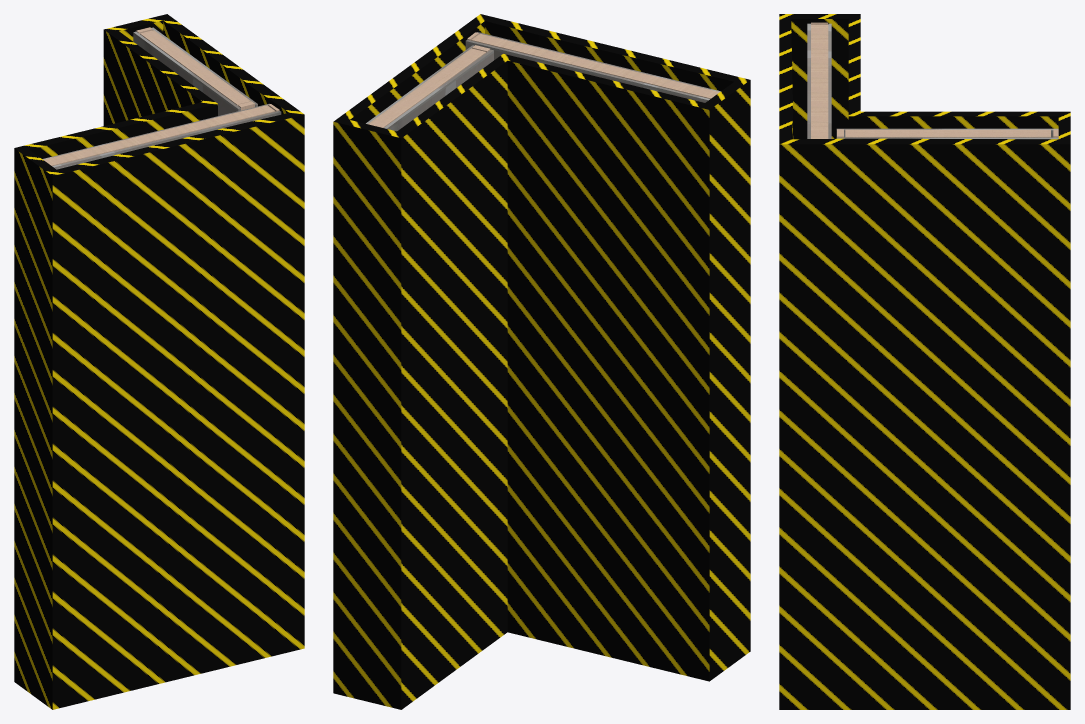
Rendered from WALLSET_G.FBX.
The picture shows the model from 3 angles, left to right: view 1: azimuth 30°, elevation 25°; view 2: azimuth 150°, elevation 25°; view 3: azimuth 270°, elevation 25°; orthographic projection. The views are drawn at different scales.
Parts seen in each view (by area): view 1: SELECTOR_18, FRAME_202, DRYWALL_22; view 2: SELECTOR_18, FRAME_202, DRYWALL_22; view 3: SELECTOR_18, FRAME_202, DRYWALL_22.
Part boxes in pixels (x1,y1,x2,y2): SELECTOR_18: (14, 14, 304, 709); FRAME_202: (43, 27, 279, 166); DRYWALL_22: (42, 27, 281, 169); SELECTOR_18: (333, 14, 750, 709); FRAME_202: (368, 32, 719, 127); DRYWALL_22: (366, 32, 720, 131); SELECTOR_18: (779, 14, 1070, 709); FRAME_202: (811, 22, 1058, 138); DRYWALL_22: (807, 23, 1058, 139).
Bounding box in the file's own units: 44.62 × 90.28 × 42.12.
